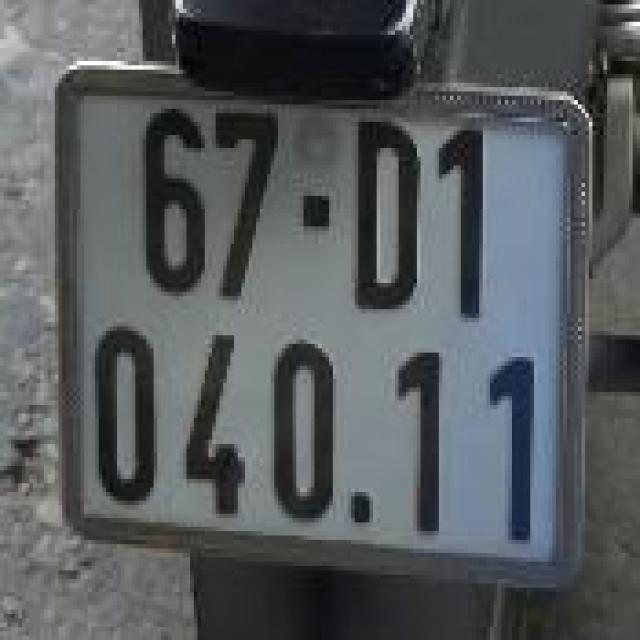0: (80, 320, 168, 520), (260, 328, 344, 524)
1: (481, 342, 550, 564), (386, 335, 448, 549), (434, 120, 496, 328)
4: (187, 337, 256, 516)
6: (132, 85, 212, 311)
7: (210, 91, 284, 318)
D: (344, 105, 435, 322)
